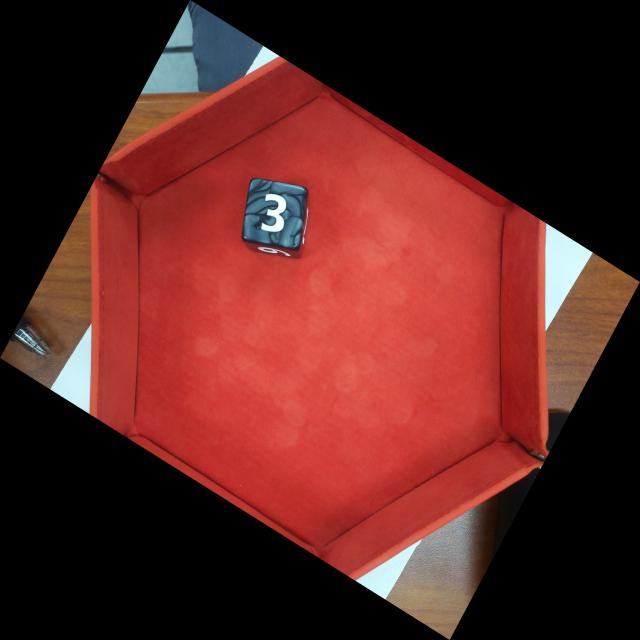dice: (241, 179, 309, 252)
